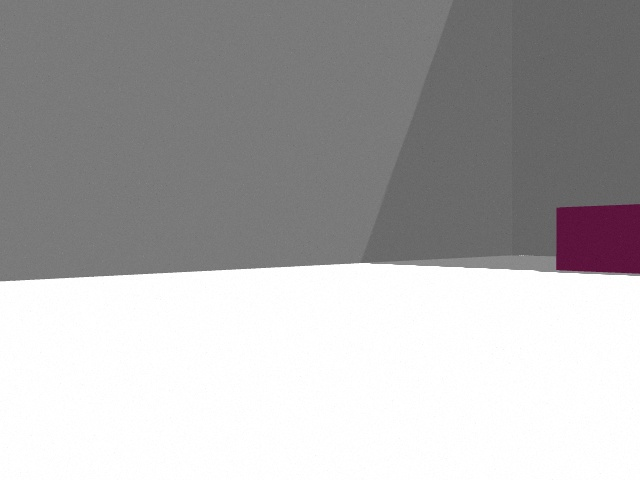red_drop_zone: (556, 204, 640, 274)
